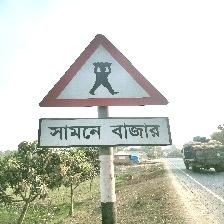Market-in-front: (37, 34, 172, 147)
